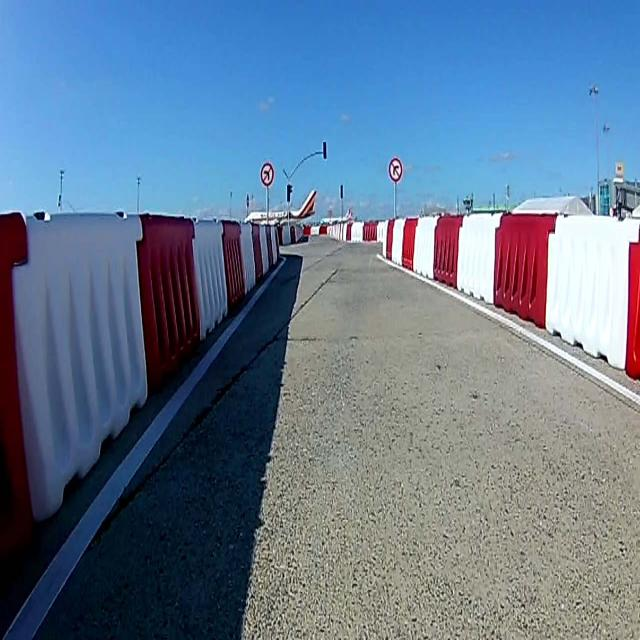sagadonulmez: (388, 158, 403, 182)
soladonulmez: (261, 162, 274, 185)
